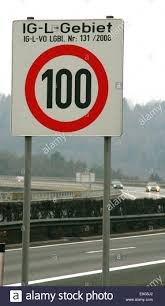Speed_limit_100km: (24, 44, 109, 133)
